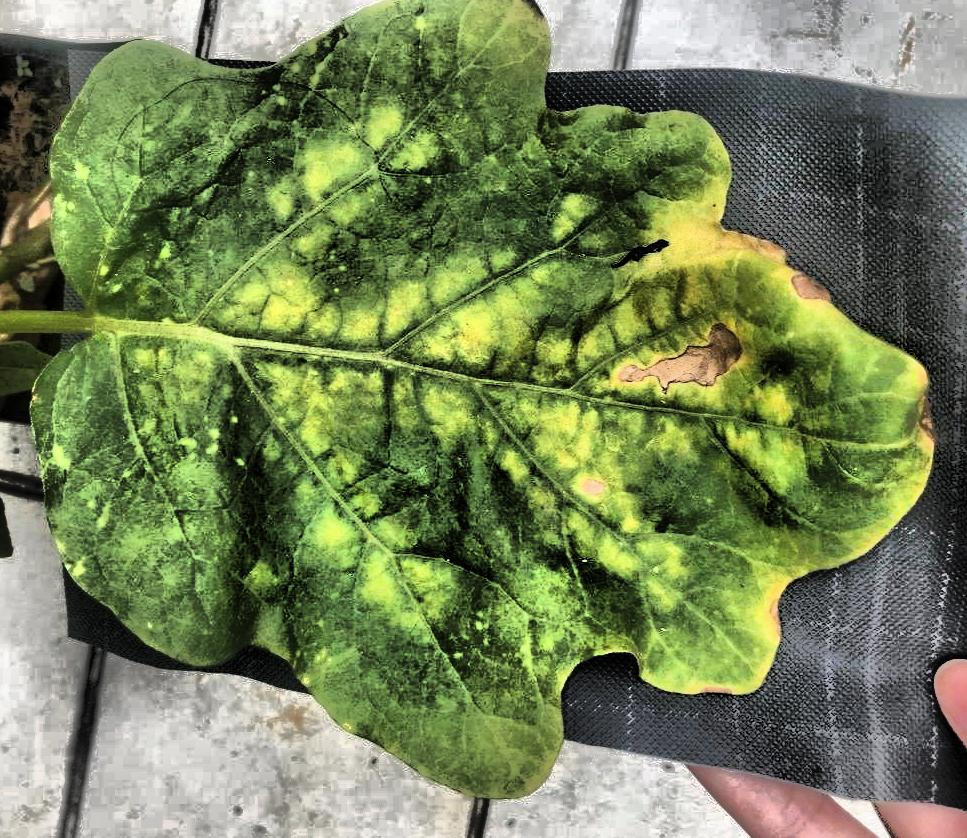Critical Stress: (1, 0, 967, 838)
